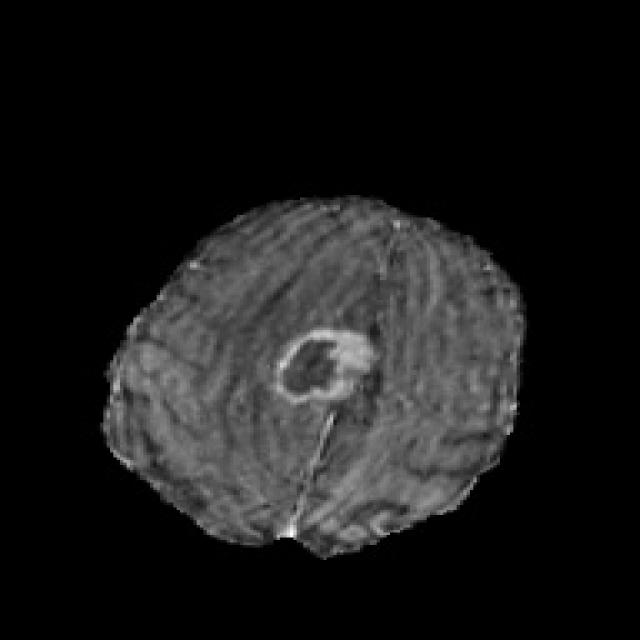positive: (275, 328, 372, 404)
